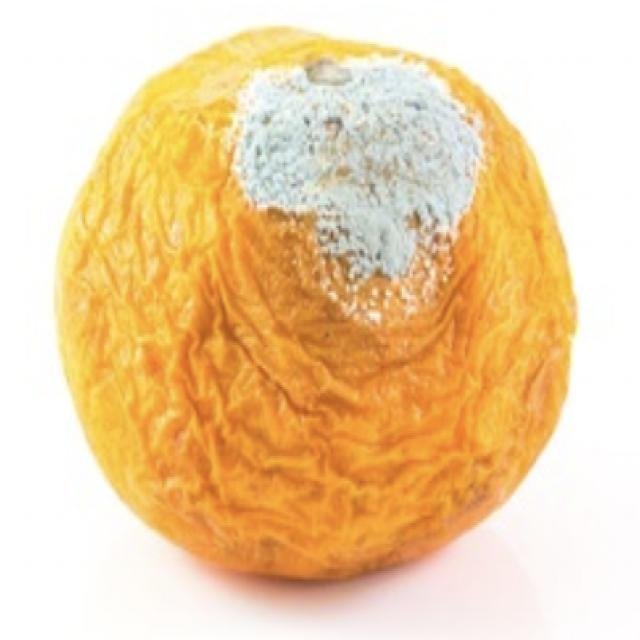rotten-orange: (48, 39, 573, 585)
